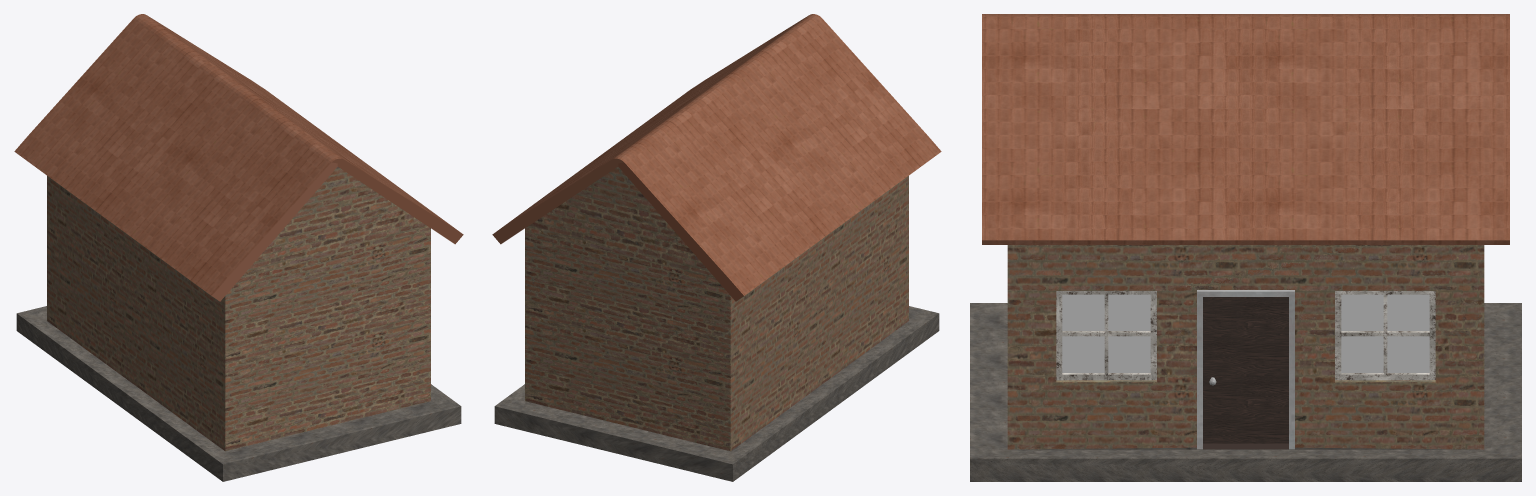
File: rumah1.fbx
The picture shows the model from 3 angles, left to right: view 1: azimuth 30°, elevation 25°; view 2: azimuth 150°, elevation 25°; view 3: azimuth 270°, elevation 25°; orthographic projection. The views are drawn at different scales.
Parts seen in each view (by area): view 1: Cube, roof; view 2: Cube, roof; view 3: roof, Cube, window, door.
Part boxes in pixels (x1=…): Cube: x1=16, y1=167, x2=461, y2=481; roof: x1=14, y1=14, x2=463, y2=301; Cube: x1=494, y1=167, x2=939, y2=481; roof: x1=492, y1=14, x2=941, y2=301; roof: x1=982, y1=14, x2=1509, y2=244; Cube: x1=970, y1=245, x2=1521, y2=481; window: x1=1056, y1=291, x2=1435, y2=380; door: x1=1197, y1=290, x2=1294, y2=449.
Size of the model in its own units: 490 by 540 by 695.
Materials: 7 (6 with a texture image).
